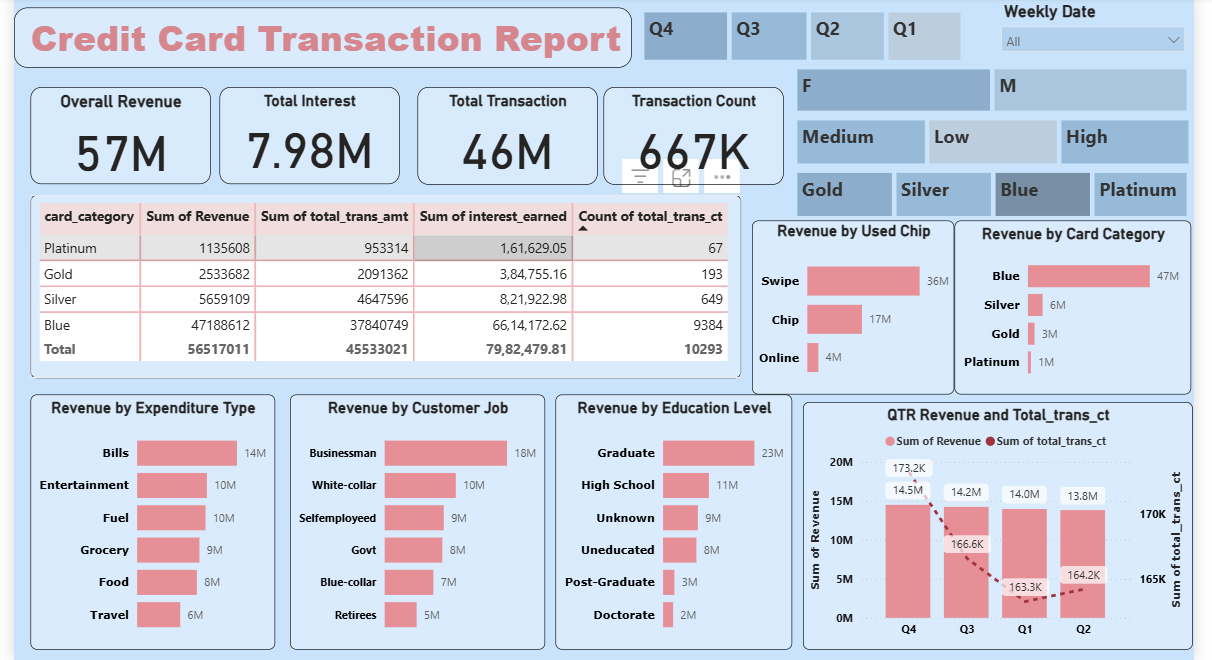

The dashboard page shown, as its layout file describes it:
{"tool":"powerbi","page":{"name":"CC Transaction","canvas":[1280,720],"ordinal":0},"visuals":[{"type":"textbox","box":[0,11.4,670,65],"z":0},{"type":"lineStackedColumnComboChart","title":"QTR Revenue and Total_trans_ct","fields":{"Category":["public credit_card_details.qtr"],"Y":["Sum(public credit_card_details.Revenue)"],"Y2":["Sum(public credit_card_details.total_trans_ct)"]},"box":[855.6,439.2,422.9,268.4],"z":1000},{"type":"barChart","title":"Revenue by Expenditure Type","fields":{"Y":["Sum(public credit_card_details.Revenue)"],"Category":["public credit_card_details.exp_type"]},"box":[17.9,431,265.1,276.5],"z":2000},{"type":"barChart","title":"Revenue by Card Category","fields":{"Y":["Sum(public credit_card_details.Revenue)"],"Category":["public credit_card_details.card_category"]},"box":[1019.8,242.4,257,188.7],"z":3000},{"type":"barChart","title":"Revenue by Customer Job","fields":{"Y":["Sum(public credit_card_details.Revenue)"],"Category":["public customer_details.customer_job"]},"box":[299.3,431,276.5,276.5],"z":4000},{"type":"barChart","title":"Revenue by Education Level","fields":{"Y":["Sum(public credit_card_details.Revenue)"],"Category":["public customer_details.education_level"]},"box":[587.2,431,257,276.5],"z":5000},{"type":"barChart","title":"Revenue by Used Chip","fields":{"Y":["Sum(public credit_card_details.Revenue)"],"Category":["public credit_card_details.use_chip"]},"box":[800.3,242.4,219.6,188.7],"z":6000},{"type":"tableEx","fields":{"Values":["public credit_card_details.card_category","Sum(public credit_card_details.Revenue)","Sum(public credit_card_details.total_trans_amt)","Sum(public credit_card_details.interest_earned)","CountNonNull(public credit_card_details.total_trans_ct)"]},"box":[17.9,214.7,771,198.4],"z":7000},{"type":"card","title":"Overall Revenue","fields":{"Values":["Sum(public credit_card_details.Revenue)"]},"box":[17.9,97.6,195,105],"z":8000},{"type":"card","title":"Total Interest","fields":{"Values":["Sum(public credit_card_details.interest_earned)"]},"box":[222.8,97.6,195,105],"z":9000},{"type":"card","title":"Total Transaction","fields":{"Values":["Sum(public credit_card_details.total_trans_amt)"]},"box":[437.5,97.6,195,105.7],"z":10000},{"type":"card","title":"Transaction Count","fields":{"Values":["Sum(public credit_card_details.total_trans_ct)"]},"box":[639.2,97.6,195.2,105.7],"z":11000},{"type":"slicer","fields":{"Values":["public credit_card_details.week_start_date"]},"box":[1060.5,0,219.6,73.2],"z":12000},{"type":"treemap","fields":{"Group":["public credit_card_details.qtr"],"Values":["Avg(public credit_card_details.client_num)"]},"box":[678.3,11.4,353,61.8],"z":13000},{"type":"treemap","fields":{"Group":["public customer_details.gender"],"Values":["Avg(public credit_card_details.client_num)"]},"box":[844.2,73.2,432.7,55.3],"z":14000},{"type":"treemap","fields":{"Group":["public customer_details.IncomeCatagory"],"Values":["Avg(public credit_card_details.client_num)"]},"box":[844.2,128.5,434.3,56.9],"z":15000},{"type":"treemap","fields":{"Group":["public credit_card_details.card_category"],"Values":["Avg(public credit_card_details.client_num)"]},"box":[844.2,185.4,432.7,56.9],"z":16000}]}

Visuals, with their boxes on the page's 1280x720 design canvas (x1, y1, x2, y2). These are canvas units, not pixel positions in the 1212x660 screenshot, which may show the page scaled, cropped or inside an application window:
textbox: BBox(0, 11, 670, 76)
"QTR Revenue and Total_trans_ct" lineStackedColumnComboChart: BBox(856, 439, 1278, 708)
"Revenue by Expenditure Type" barChart: BBox(18, 431, 283, 708)
"Revenue by Card Category" barChart: BBox(1020, 242, 1277, 431)
"Revenue by Customer Job" barChart: BBox(299, 431, 576, 708)
"Revenue by Education Level" barChart: BBox(587, 431, 844, 708)
"Revenue by Used Chip" barChart: BBox(800, 242, 1020, 431)
tableEx - public credit_card_details.card_category x Sum(public credit_card_details.Revenue): BBox(18, 215, 789, 413)
"Overall Revenue" card: BBox(18, 98, 213, 203)
"Total Interest" card: BBox(223, 98, 418, 203)
"Total Transaction" card: BBox(438, 98, 632, 203)
"Transaction Count" card: BBox(639, 98, 834, 203)
slicer - public credit_card_details.week_start_date: BBox(1060, 0, 1280, 73)
treemap - public credit_card_details.qtr x Avg(public credit_card_details.client_num): BBox(678, 11, 1031, 73)
treemap - public customer_details.gender x Avg(public credit_card_details.client_num): BBox(844, 73, 1277, 128)
treemap - public customer_details.IncomeCatagory x Avg(public credit_card_details.client_num): BBox(844, 128, 1278, 185)
treemap - public credit_card_details.card_category x Avg(public credit_card_details.client_num): BBox(844, 185, 1277, 242)
